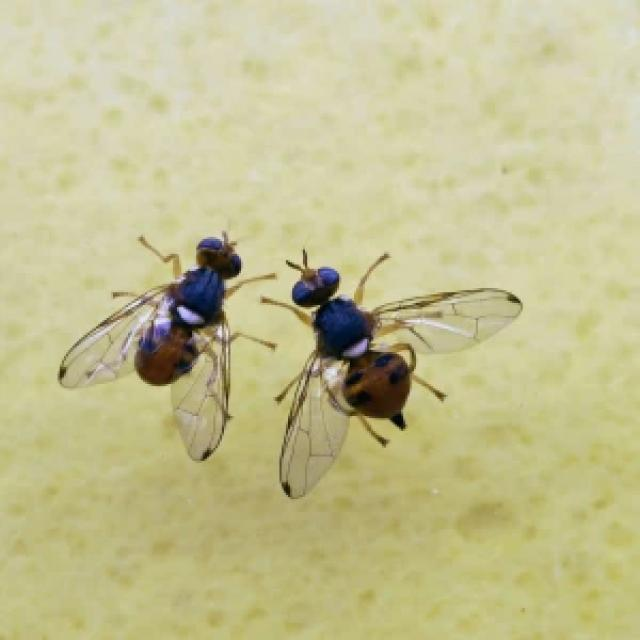Anthracnose: (260, 250, 520, 497), (60, 233, 275, 457)
